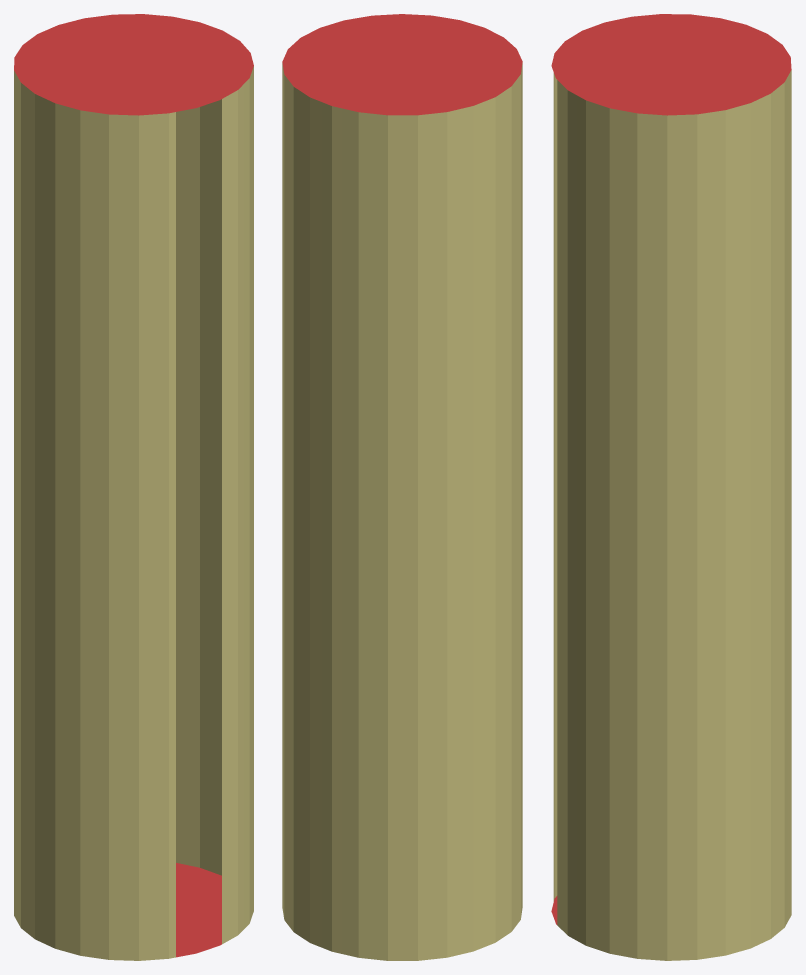
3 renders of one model, left to right at view 1: azimuth 30°, elevation 25°; view 2: azimuth 150°, elevation 25°; view 3: azimuth 270°, elevation 25°, orthographic.
Bounding box in the file's own units: 2.61 × 2.6 × 10.12.
